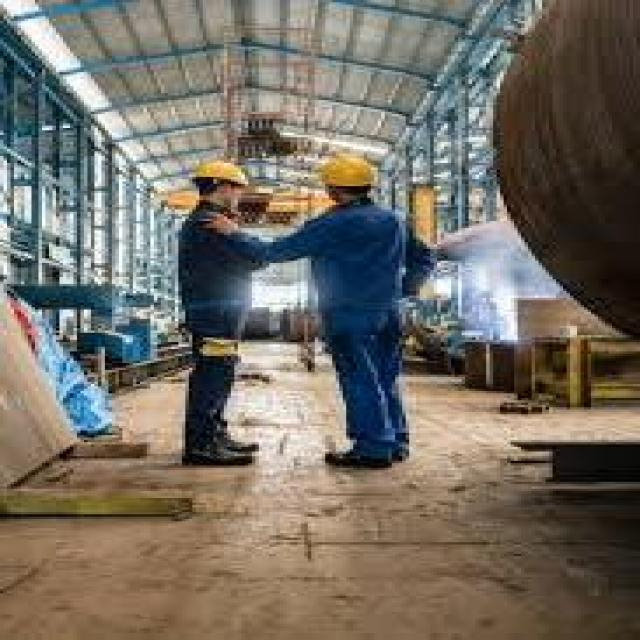Reflective-Jacket: (287, 202, 423, 319), (154, 193, 266, 282)
Safety-Helmet: (304, 144, 392, 200), (175, 154, 262, 196)
